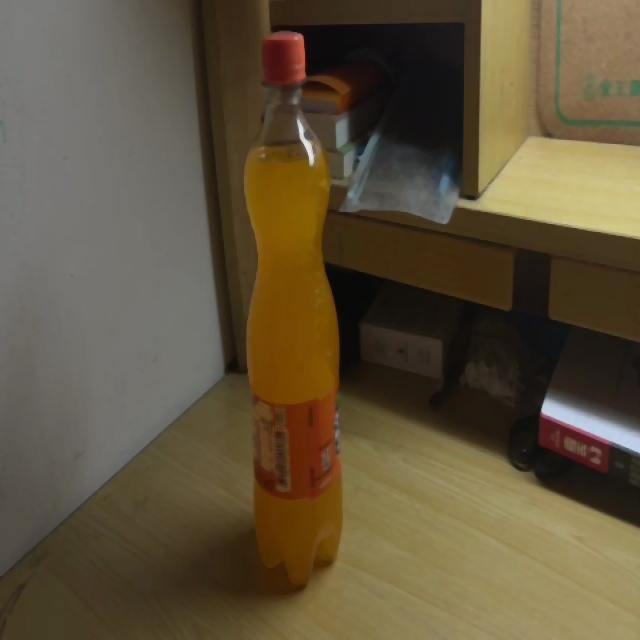Fanta: (242, 29, 348, 582)
